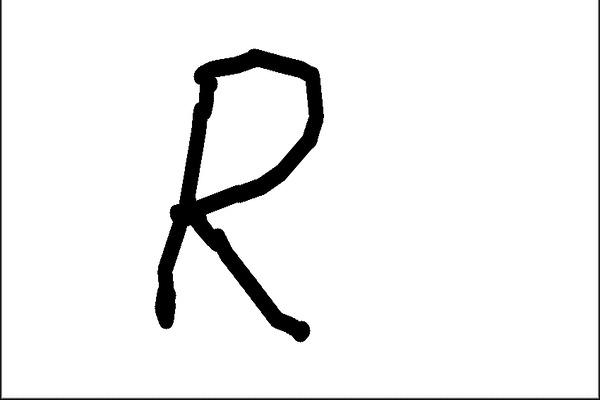R: (145, 39, 339, 348)
